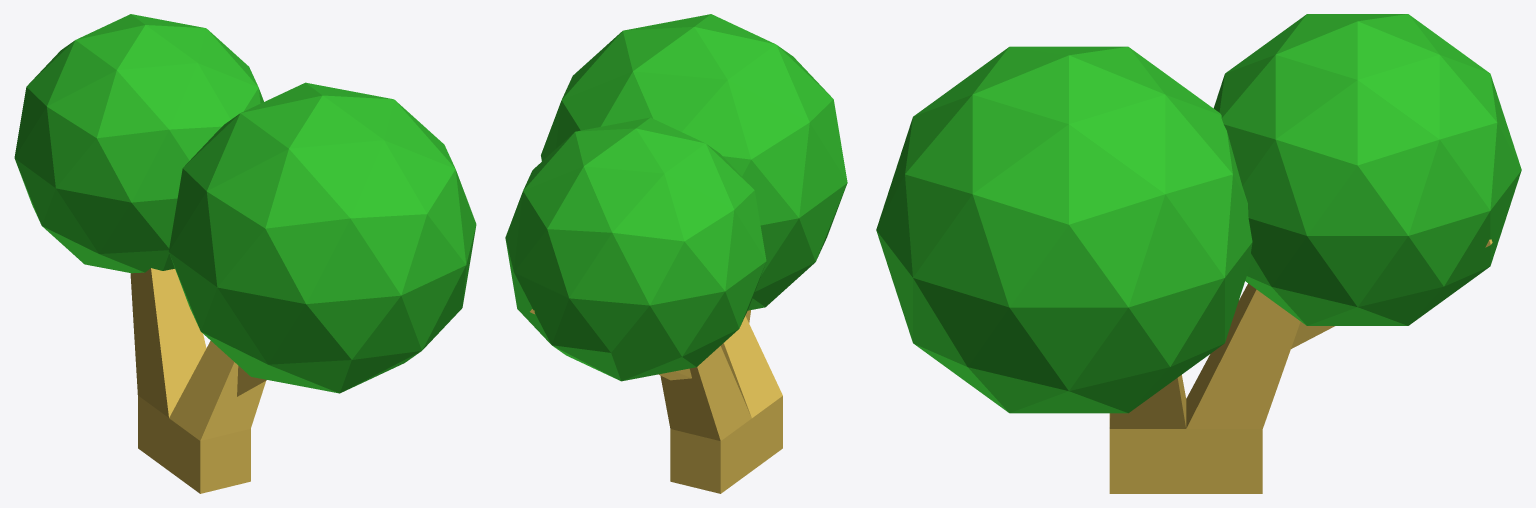
File: bush.fbx
3 renders of one model, left to right at view 1: azimuth 30°, elevation 25°; view 2: azimuth 150°, elevation 25°; view 3: azimuth 270°, elevation 25°, orthographic. The views are drawn at different scales.
Parts seen in each view (by area): view 1: Icosphere, Icosphere.001, Cube; view 2: Icosphere.001, Icosphere, Cube; view 3: Icosphere, Icosphere.001, Cube.
Part boxes in pixels (x1,y1,x2,y2): Icosphere: (168,82,476,393); Icosphere.001: (14,14,263,273); Cube: (130,268,266,493); Icosphere.001: (505,117,766,381); Icosphere: (541,14,847,310); Cube: (530,309,782,493); Icosphere: (876,46,1252,413); Icosphere.001: (1213,14,1521,325); Cube: (1109,239,1492,493).
Bounding box in the file's own units: 284 × 350 × 434.
